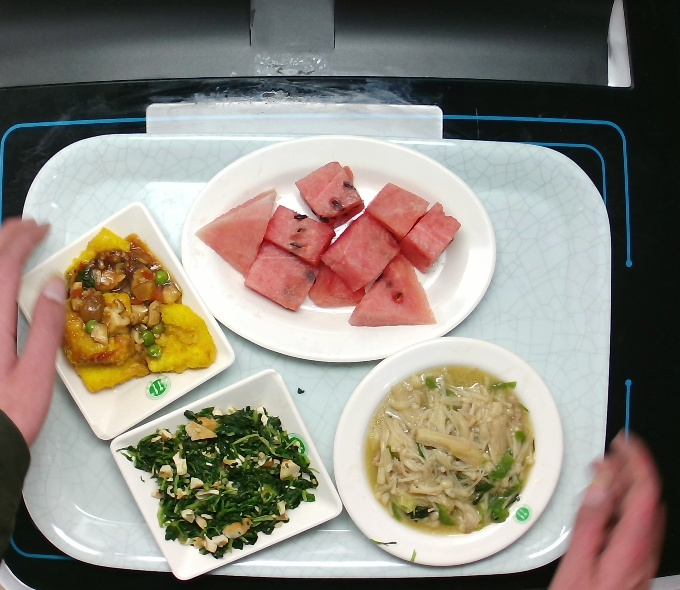wcq-CuiPiDouFu: (59, 224, 216, 394)
wcq-JinZhenGu: (364, 359, 536, 534)
wcq-MaLanTouChaoDouGan: (131, 405, 319, 556)
wcq-XiGua: (193, 159, 463, 329)
